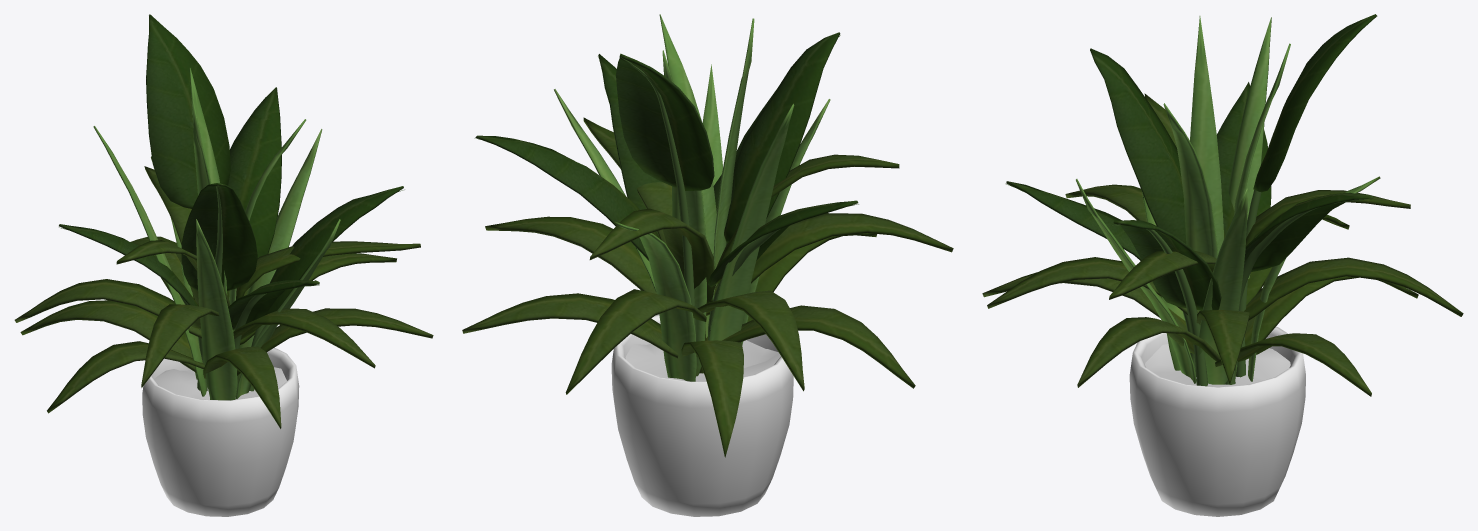
Rendered from Plant Pots.fbx.
3 renders of one model, left to right at view 1: azimuth 30°, elevation 25°; view 2: azimuth 150°, elevation 25°; view 3: azimuth 270°, elevation 25°, orthographic. The views are drawn at different scales.
Parts seen in each view (by area): view 1: Plant1, Plant3, Pot, Plant2; view 2: Plant3, Plant1, Pot, Plant2; view 3: Plant1, Pot, Plant3, Plant2.
Part boxes in pixels (x1,y1,x2,y2): Plant1: [59, 14, 404, 399]; Plant3: [14, 166, 433, 428]; Pot: [142, 347, 299, 516]; Plant2: [93, 68, 340, 400]; Plant3: [462, 117, 953, 457]; Plant1: [474, 32, 858, 340]; Pot: [611, 314, 793, 516]; Plant2: [554, 14, 830, 381]; Plant1: [1005, 14, 1377, 386]; Pot: [1129, 326, 1305, 516]; Plant3: [982, 93, 1463, 396]; Plant2: [1076, 16, 1380, 384].
Size of the model in its own units: 65.88 by 74.74 by 68.31.
